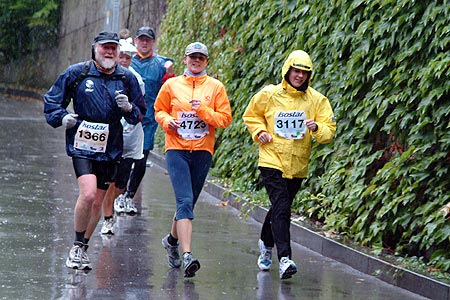person: (45, 32, 148, 272), (243, 43, 335, 284), (153, 43, 234, 279)
